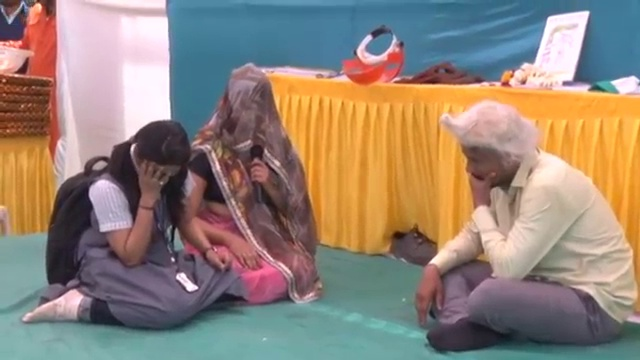helmet: (0, 47, 34, 76)
helmet_off: (450, 100, 540, 205), (124, 119, 188, 192), (220, 67, 276, 139), (30, 2, 57, 27)
person: (402, 97, 640, 338), (29, 119, 211, 323), (181, 65, 317, 305), (0, 4, 61, 105)
